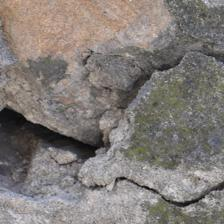Crack: (4, 104, 106, 173), (87, 175, 224, 211)
